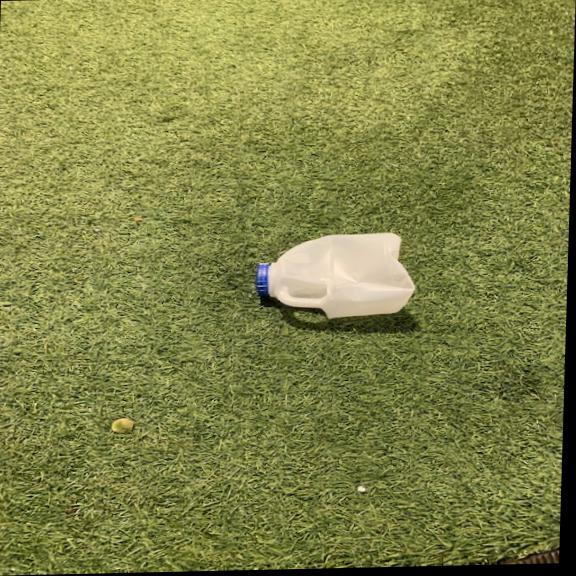Plastik: (252, 232, 419, 320)
